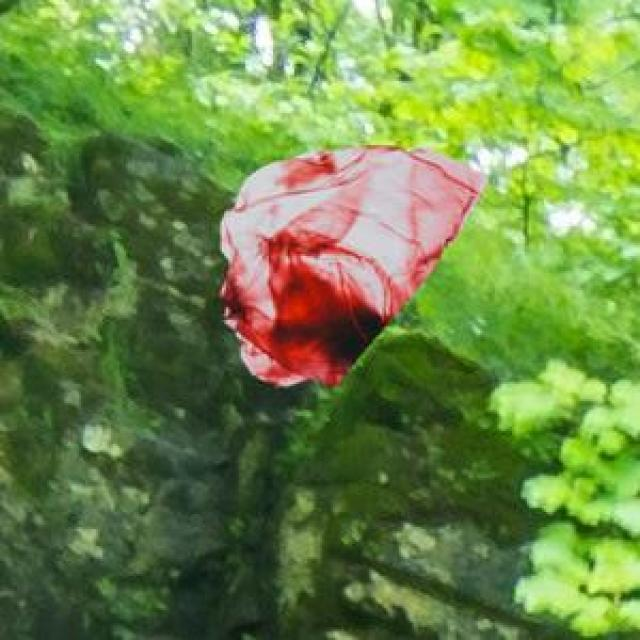waste: (220, 148, 484, 386)
